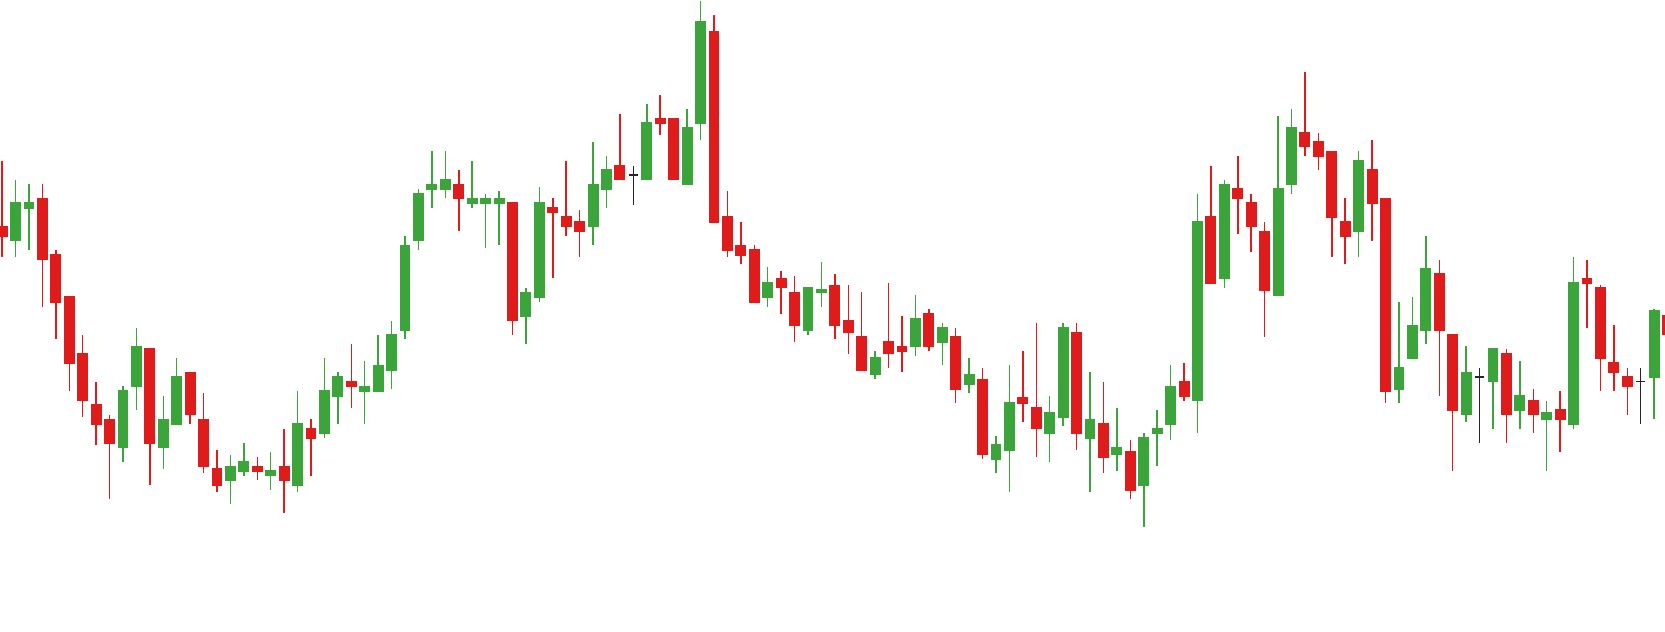buy: (105, 356, 238, 515)
sell: (1230, 62, 1326, 238)
